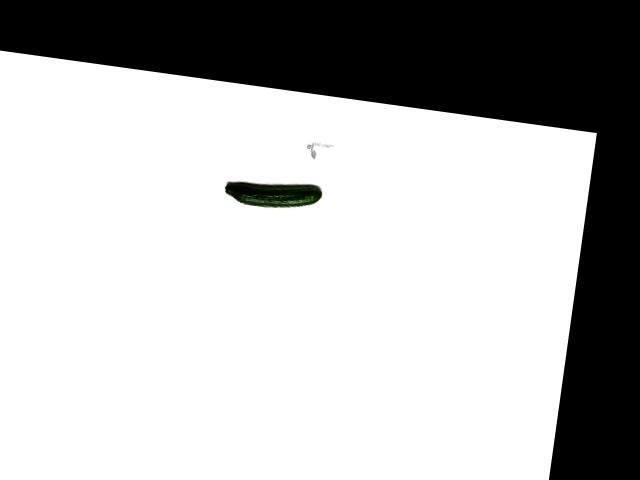cucumber: (223, 174, 323, 214)
